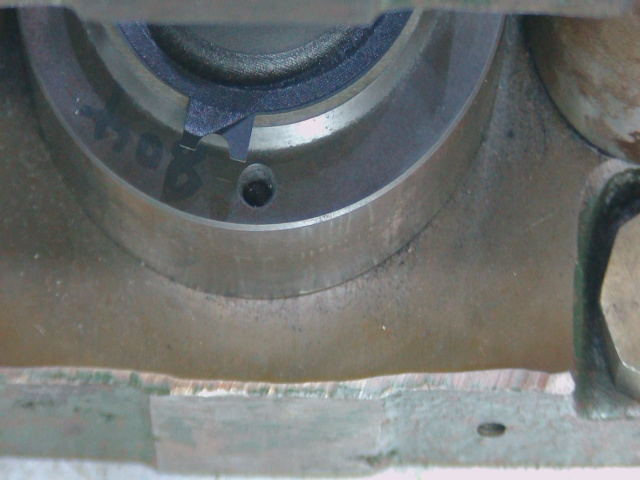NG: (178, 95, 264, 171)
